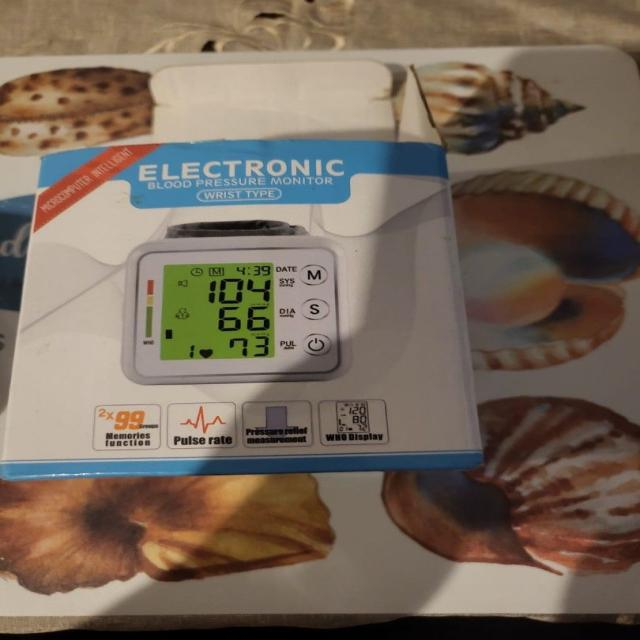dia: (214, 304, 272, 332)
pul: (226, 335, 271, 359)
ssd: (159, 262, 274, 360)
sys: (203, 277, 274, 304)
